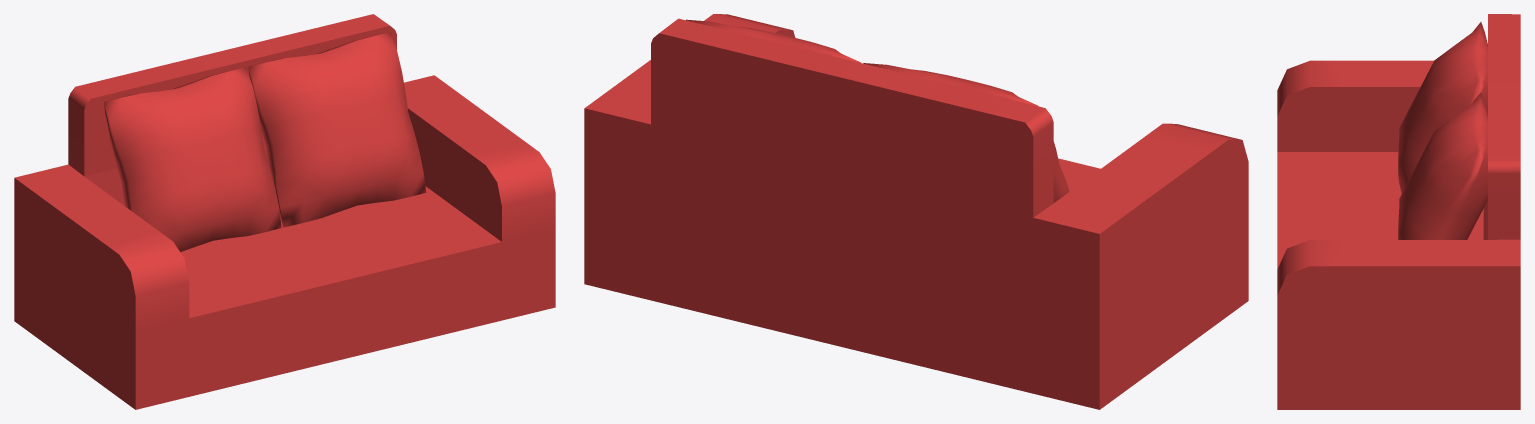
The model's file is X2BoxSofa.fbx.
The picture shows the model from 3 angles, left to right: view 1: azimuth 30°, elevation 25°; view 2: azimuth 150°, elevation 25°; view 3: azimuth 270°, elevation 25°; orthographic projection. The views are drawn at different scales.
Visible parts, largest first — view 1: y2sofa; view 2: y2sofa; view 3: y2sofa.
Part boxes in pixels (<box>): y2sofa: <box>14,14,555,409</box>; y2sofa: <box>584,14,1248,409</box>; y2sofa: <box>1277,14,1520,409</box>.
Size of the model in its own units: 2 by 0.9987 by 1.
1 material, 1 textured.
